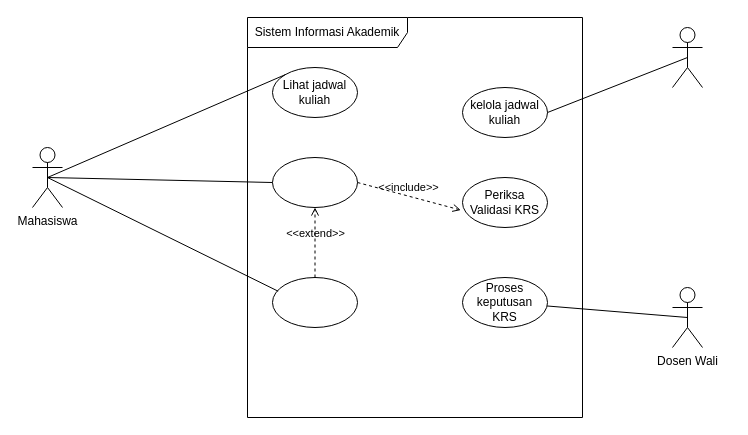
This 748x435 diagram has some shape labels left out. Here are the shapes that lost their labels. From the top down, the centre of each, then its label:
At pixel 687 57: "admin akademik".
At pixel 315 182: "AjukanKRS".
At pixel 315 302: "Unduh bukti pengajuan".
